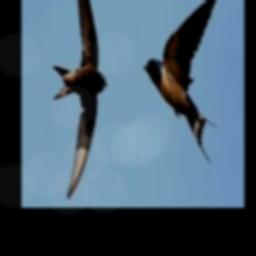Swallow: (143, 0, 217, 161), (52, 0, 107, 199)
